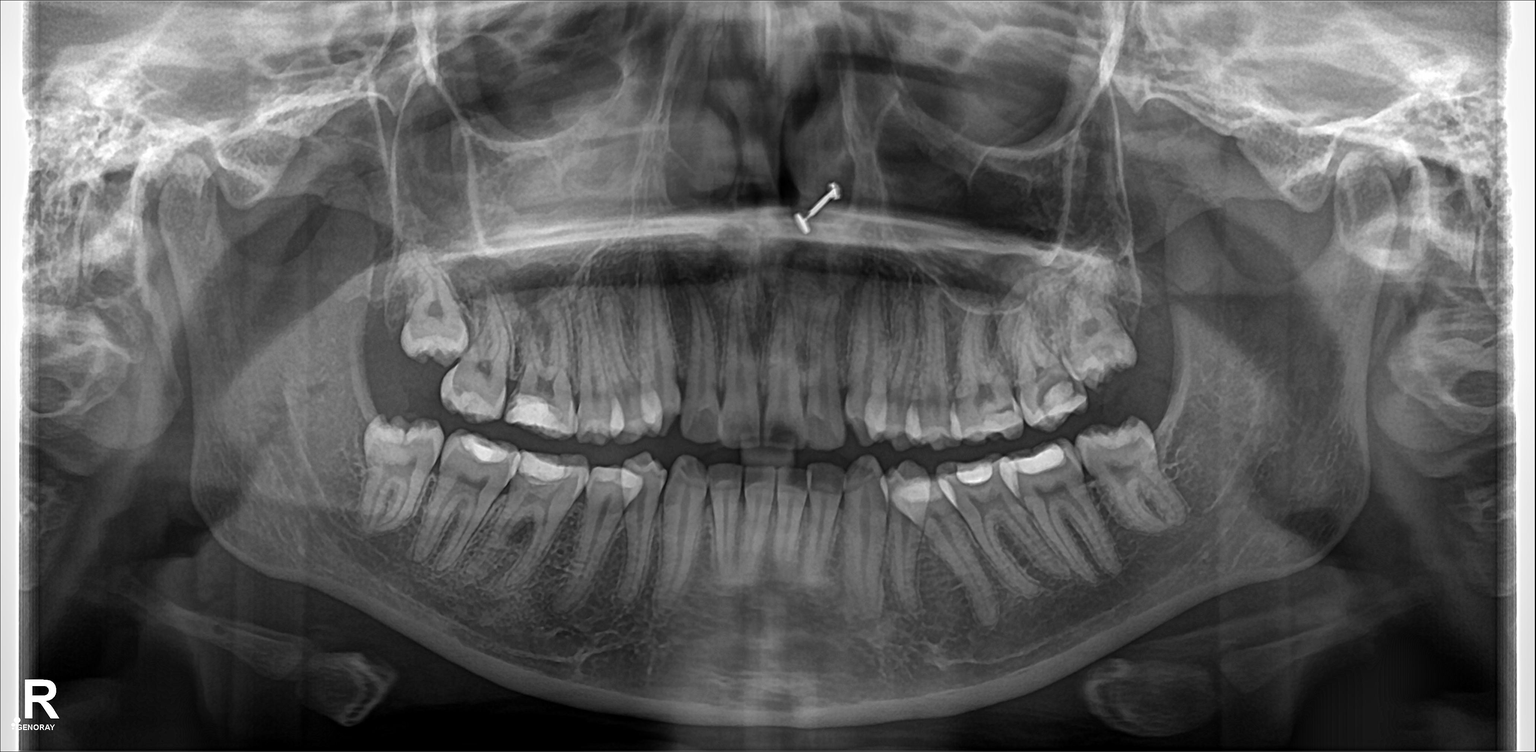Dental Caries: (769, 423, 800, 444)
Impacted Third Molar: (402, 285, 471, 364)
Missing Tooth: (1115, 262, 1171, 361), (361, 283, 404, 369)
